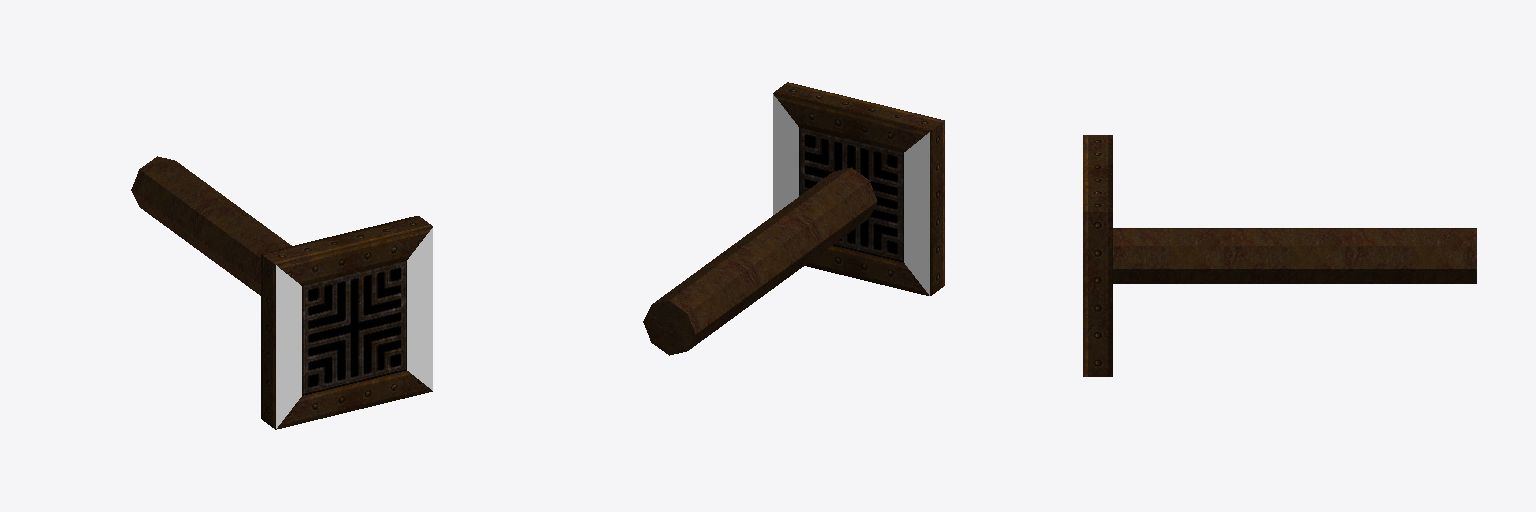
The picture shows the model from 3 angles: view 1: azimuth 30°, elevation 25°; view 2: azimuth 150°, elevation 25°; view 3: azimuth 270°, elevation 25°; orthographic projection.
Size of the model in its own units: 96 by 96 by 208.
4 materials, 3 textured.